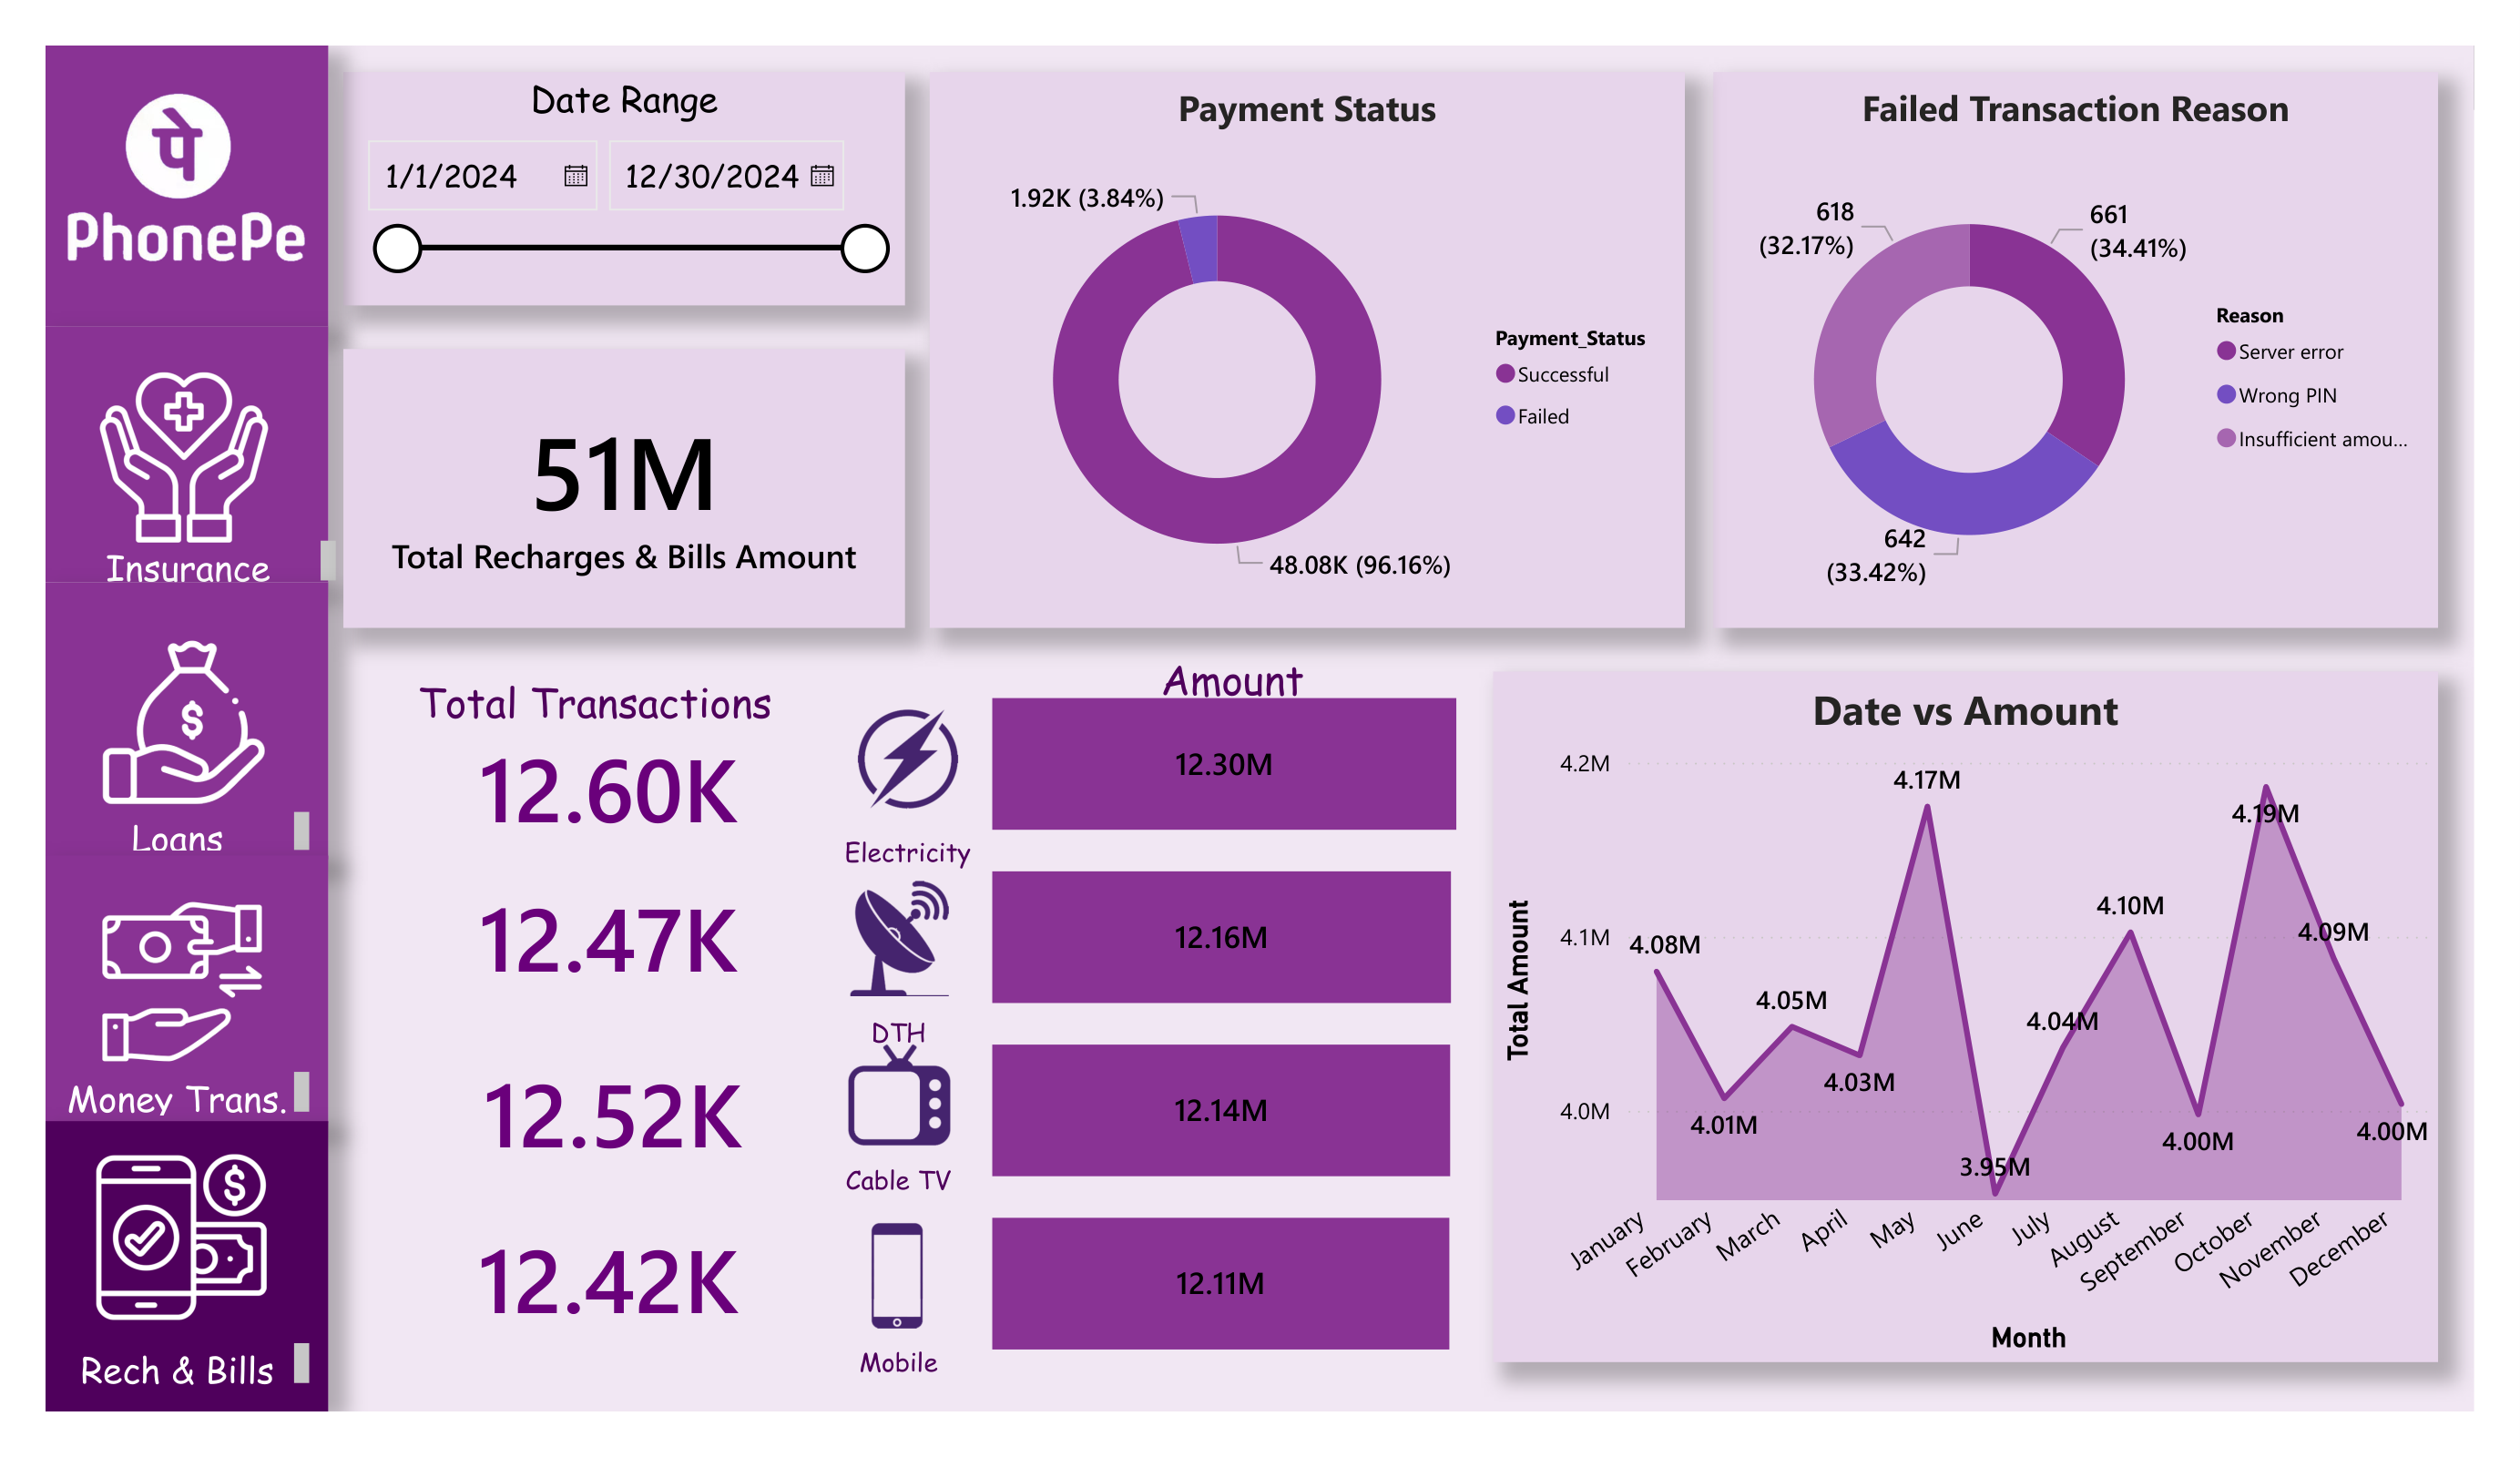

What the dashboard file says about the page in this screenshot:
{"tool":"powerbi","page":{"name":"Recharges & Bills","canvas":[1280,720],"ordinal":4},"visuals":[{"type":"shape","box":[0,0,148.8,147.5],"z":0,"group":"g1"},{"type":"slicer","title":"Date Range","fields":{"Values":["Recharge_Bills.Date"]},"box":[157.1,14.3,295.7,122.9],"z":0},{"type":"donutChart","title":"Failed Transaction Reason","fields":{"Category":["Recharge_Bills.Reason"],"Y":["CountNonNull(Recharge_Bills.Reason)"]},"box":[878.6,14.3,382.9,292.9],"z":1000},{"type":"shape","box":[0,147.5,148.8,135],"z":1000,"group":"g2"},{"type":"shape","box":[0,282.5,148.8,146.1],"z":2000,"group":"g3"},{"type":"areaChart","title":"Date vs Amount","fields":{"Category":["Recharge_Bills.Date.Variation.Date Hierarchy.Month"],"Y":["Sum(Recharge_Bills.Amount)"]},"box":[762.9,330,498.6,364.3],"z":2000},{"type":"group","id":"g1","title":"Group 1","box":[0,0,148.8,147.5],"z":3000},{"type":"shape","box":[0,427.1,148.6,141.4],"z":3000,"group":"g4"},{"type":"group","id":"g2","title":"Group 2","box":[0,147.5,157.5,141.2],"z":4000},{"type":"shape","box":[0,567.1,148.6,152.9],"z":4000,"group":"g5"},{"type":"image","box":[6.2,7.5,135,130],"z":5000,"group":"g1"},{"type":"group","id":"g3","title":"Group 3","box":[0,282.5,148.8,146.2],"z":5000},{"type":"image","box":[15,307.1,118.9,95.9],"z":6000,"group":"g3"},{"type":"group","id":"g4","title":"Group 4","box":[0,427.1,148.6,141.6],"z":6000},{"type":"image","box":[23.8,440,96.2,107.5],"z":7000,"group":"g4"},{"type":"group","id":"g5","title":"Group 5","box":[0,567.1,148.6,152.9],"z":7000},{"type":"actionButton","box":[0,147.5,143.8,141.2],"z":8000},{"type":"image","box":[13.8,577.5,115,101.2],"z":8000,"group":"g5"},{"type":"image","box":[18.6,161.4,108.6,110],"z":9000,"group":"g2"},{"type":"actionButton","box":[2.5,288.8,146.2,140],"z":9000},{"type":"textbox","box":[0,255,157.5,33.8],"z":10000,"group":"g2"},{"type":"actionButton","box":[0,433.8,148.8,133.8],"z":10000},{"type":"card","title":"Total Transaction Amount","fields":{"Values":["Sum(Recharge_Bills.Amount)"]},"box":[157.1,160,295.7,147.1],"z":11000},{"type":"textbox","box":[2.5,398,141.4,30.7],"z":11000,"group":"g3"},{"type":"donutChart","title":"Payment Status","fields":{"Category":["Recharge_Bills.Payment_Status"],"Y":["CountNonNull(Recharge_Bills.Payment_Status)"]},"box":[465.7,14.3,398.6,292.9],"z":12000},{"type":"textbox","box":[2.5,536.2,141.2,32.5],"z":12000,"group":"g4"},{"type":"actionButton","box":[0,0,148.6,147.1],"z":12001,"group":"g1"},{"type":"clusteredBarChart","title":"Date vs Amount","fields":{"Category":["Recharge_Bills.Recharge_Type"],"Y":["Sum(Recharge_Bills.Amount)"]},"box":[494.3,331.4,310,364.3],"z":13000},{"type":"textbox","box":[2.5,678.7,141.2,32.5],"z":13000,"group":"g5"},{"type":"image","box":[408.8,347.5,91.2,56.2],"z":14000},{"type":"image","box":[397.5,436.2,103.8,65],"z":15000},{"type":"image","box":[415,518.8,70,67.5],"z":16000},{"type":"image","box":[410,617.5,80,61.2],"z":17000},{"type":"textbox","box":[179.8,325.2,219.6,68.6],"z":18000},{"type":"textbox","box":[382.5,505,133.8,35],"z":19000},{"type":"textbox","box":[387.5,410,133.8,35],"z":20000},{"type":"textbox","box":[382.5,582.5,133.8,35],"z":21000},{"type":"textbox","box":[382.5,678.8,133.8,35],"z":22000},{"type":"card","title":"Total Transaction Amount","fields":{"Values":["CountNonNull(Recharge_Bills.Transaction_ID)"]},"box":[177.5,351.2,237.5,77.5],"z":23000},{"type":"card","title":"Total Transaction Amount","fields":{"Values":["CountNonNull(Recharge_Bills.Transaction_ID)"]},"box":[177.5,430,237.5,77.5],"z":24000},{"type":"card","title":"Total Transaction Amount","fields":{"Values":["CountNonNull(Recharge_Bills.Transaction_ID)"]},"box":[180,522.5,237.5,77.5],"z":25000},{"type":"card","title":"Total Transaction Amount","fields":{"Values":["CountNonNull(Recharge_Bills.Transaction_ID)"]},"box":[177.5,610,237.5,77.5],"z":26000},{"type":"textbox","box":[516.2,312.5,218.8,68.8],"z":27000}]}

Visuals, with their boxes on the page's 1280x720 design canvas (x1, y1, x2, y2). These are canvas units, not pixel positions in the 2520x1457 screenshot, which may show the page scaled, cropped or inside an application window:
shape: {"left": 0, "top": 0, "right": 149, "bottom": 148}
"Date Range" slicer: {"left": 157, "top": 14, "right": 453, "bottom": 137}
"Failed Transaction Reason" donutChart: {"left": 879, "top": 14, "right": 1262, "bottom": 307}
shape: {"left": 0, "top": 148, "right": 149, "bottom": 282}
shape: {"left": 0, "top": 282, "right": 149, "bottom": 429}
"Date vs Amount" areaChart: {"left": 763, "top": 330, "right": 1262, "bottom": 694}
"Group 1" group: {"left": 0, "top": 0, "right": 149, "bottom": 148}
shape: {"left": 0, "top": 427, "right": 149, "bottom": 568}
"Group 2" group: {"left": 0, "top": 148, "right": 158, "bottom": 289}
shape: {"left": 0, "top": 567, "right": 149, "bottom": 720}
image: {"left": 6, "top": 8, "right": 141, "bottom": 138}
"Group 3" group: {"left": 0, "top": 282, "right": 149, "bottom": 429}
image: {"left": 15, "top": 307, "right": 134, "bottom": 403}
"Group 4" group: {"left": 0, "top": 427, "right": 149, "bottom": 569}
image: {"left": 24, "top": 440, "right": 120, "bottom": 548}
"Group 5" group: {"left": 0, "top": 567, "right": 149, "bottom": 720}
actionButton: {"left": 0, "top": 148, "right": 144, "bottom": 289}
image: {"left": 14, "top": 578, "right": 129, "bottom": 679}
image: {"left": 19, "top": 161, "right": 127, "bottom": 271}
actionButton: {"left": 2, "top": 289, "right": 149, "bottom": 429}
textbox: {"left": 0, "top": 255, "right": 158, "bottom": 289}
actionButton: {"left": 0, "top": 434, "right": 149, "bottom": 568}
"Total Transaction Amount" card: {"left": 157, "top": 160, "right": 453, "bottom": 307}
textbox: {"left": 2, "top": 398, "right": 144, "bottom": 429}
"Payment Status" donutChart: {"left": 466, "top": 14, "right": 864, "bottom": 307}
textbox: {"left": 2, "top": 536, "right": 144, "bottom": 569}
actionButton: {"left": 0, "top": 0, "right": 149, "bottom": 147}
"Date vs Amount" clusteredBarChart: {"left": 494, "top": 331, "right": 804, "bottom": 696}
textbox: {"left": 2, "top": 679, "right": 144, "bottom": 711}
image: {"left": 409, "top": 348, "right": 500, "bottom": 404}
image: {"left": 398, "top": 436, "right": 501, "bottom": 501}
image: {"left": 415, "top": 519, "right": 485, "bottom": 586}
image: {"left": 410, "top": 618, "right": 490, "bottom": 679}
textbox: {"left": 180, "top": 325, "right": 399, "bottom": 394}
textbox: {"left": 382, "top": 505, "right": 516, "bottom": 540}
textbox: {"left": 388, "top": 410, "right": 521, "bottom": 445}
textbox: {"left": 382, "top": 582, "right": 516, "bottom": 618}
textbox: {"left": 382, "top": 679, "right": 516, "bottom": 714}
"Total Transaction Amount" card: {"left": 178, "top": 351, "right": 415, "bottom": 429}
"Total Transaction Amount" card: {"left": 178, "top": 430, "right": 415, "bottom": 508}
"Total Transaction Amount" card: {"left": 180, "top": 522, "right": 418, "bottom": 600}
"Total Transaction Amount" card: {"left": 178, "top": 610, "right": 415, "bottom": 688}
textbox: {"left": 516, "top": 312, "right": 735, "bottom": 381}
